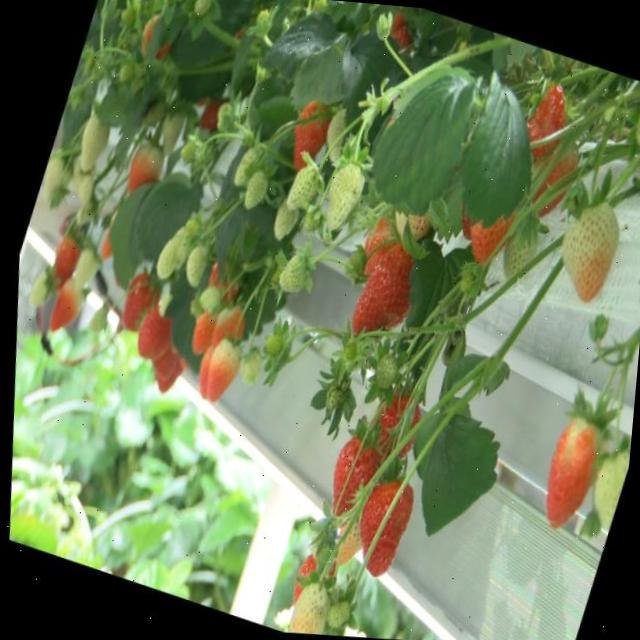ripe: (330, 227, 432, 365), (334, 468, 419, 590), (306, 436, 378, 528), (274, 86, 342, 183), (356, 386, 425, 476), (103, 258, 159, 338), (119, 302, 173, 372), (140, 348, 182, 398)
